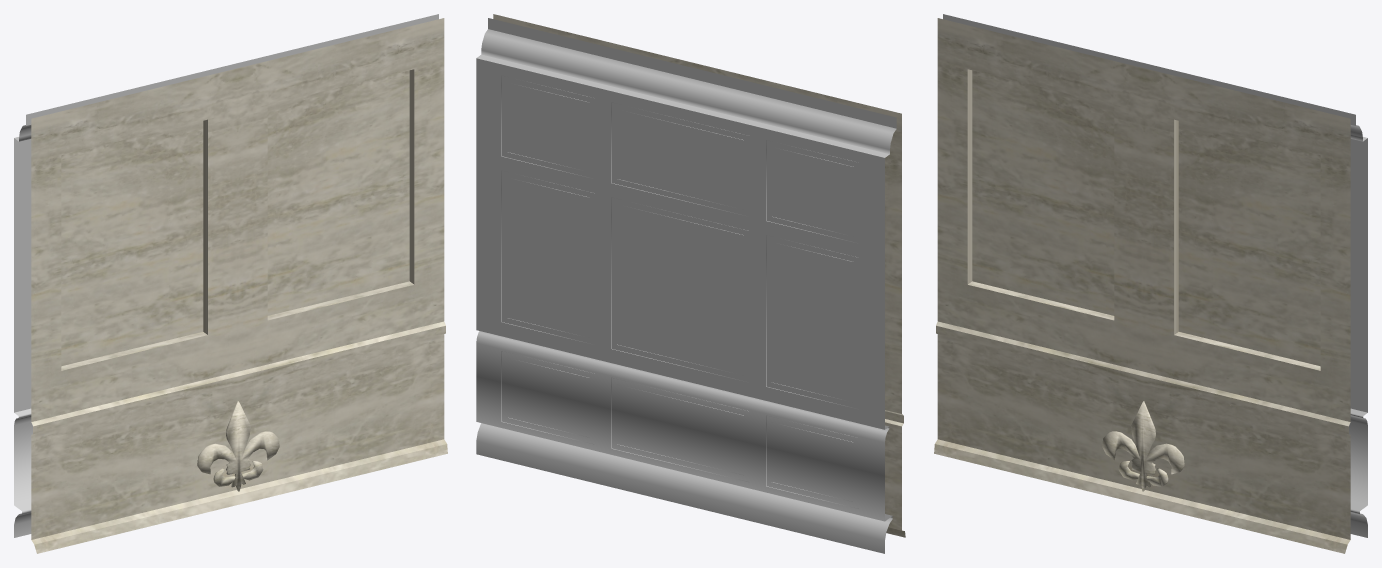
File: wall_default.dae
3 renders of one model, left to right at view 1: azimuth 30°, elevation 25°; view 2: azimuth 150°, elevation 25°; view 3: azimuth 330°, elevation 25°, orthographic.
Visible parts, largest first — view 1: BezierCurve, mansionbase_default, BezierCurve_001; view 2: mansionbase_default, BezierCurve; view 3: BezierCurve, mansionbase_default, BezierCurve_001.
Part boxes in pixels (x1,y1,x2,y2): BezierCurve: [31, 18, 447, 553]; mansionbase_default: [14, 14, 438, 537]; BezierCurve_001: [197, 401, 279, 491]; mansionbase_default: [476, 18, 896, 553]; BezierCurve: [493, 14, 905, 537]; BezierCurve: [934, 18, 1350, 553]; mansionbase_default: [943, 14, 1367, 537]; BezierCurve_001: [1102, 401, 1184, 491].
Size of the model in its own units: 4 by 0.3723 by 4.
